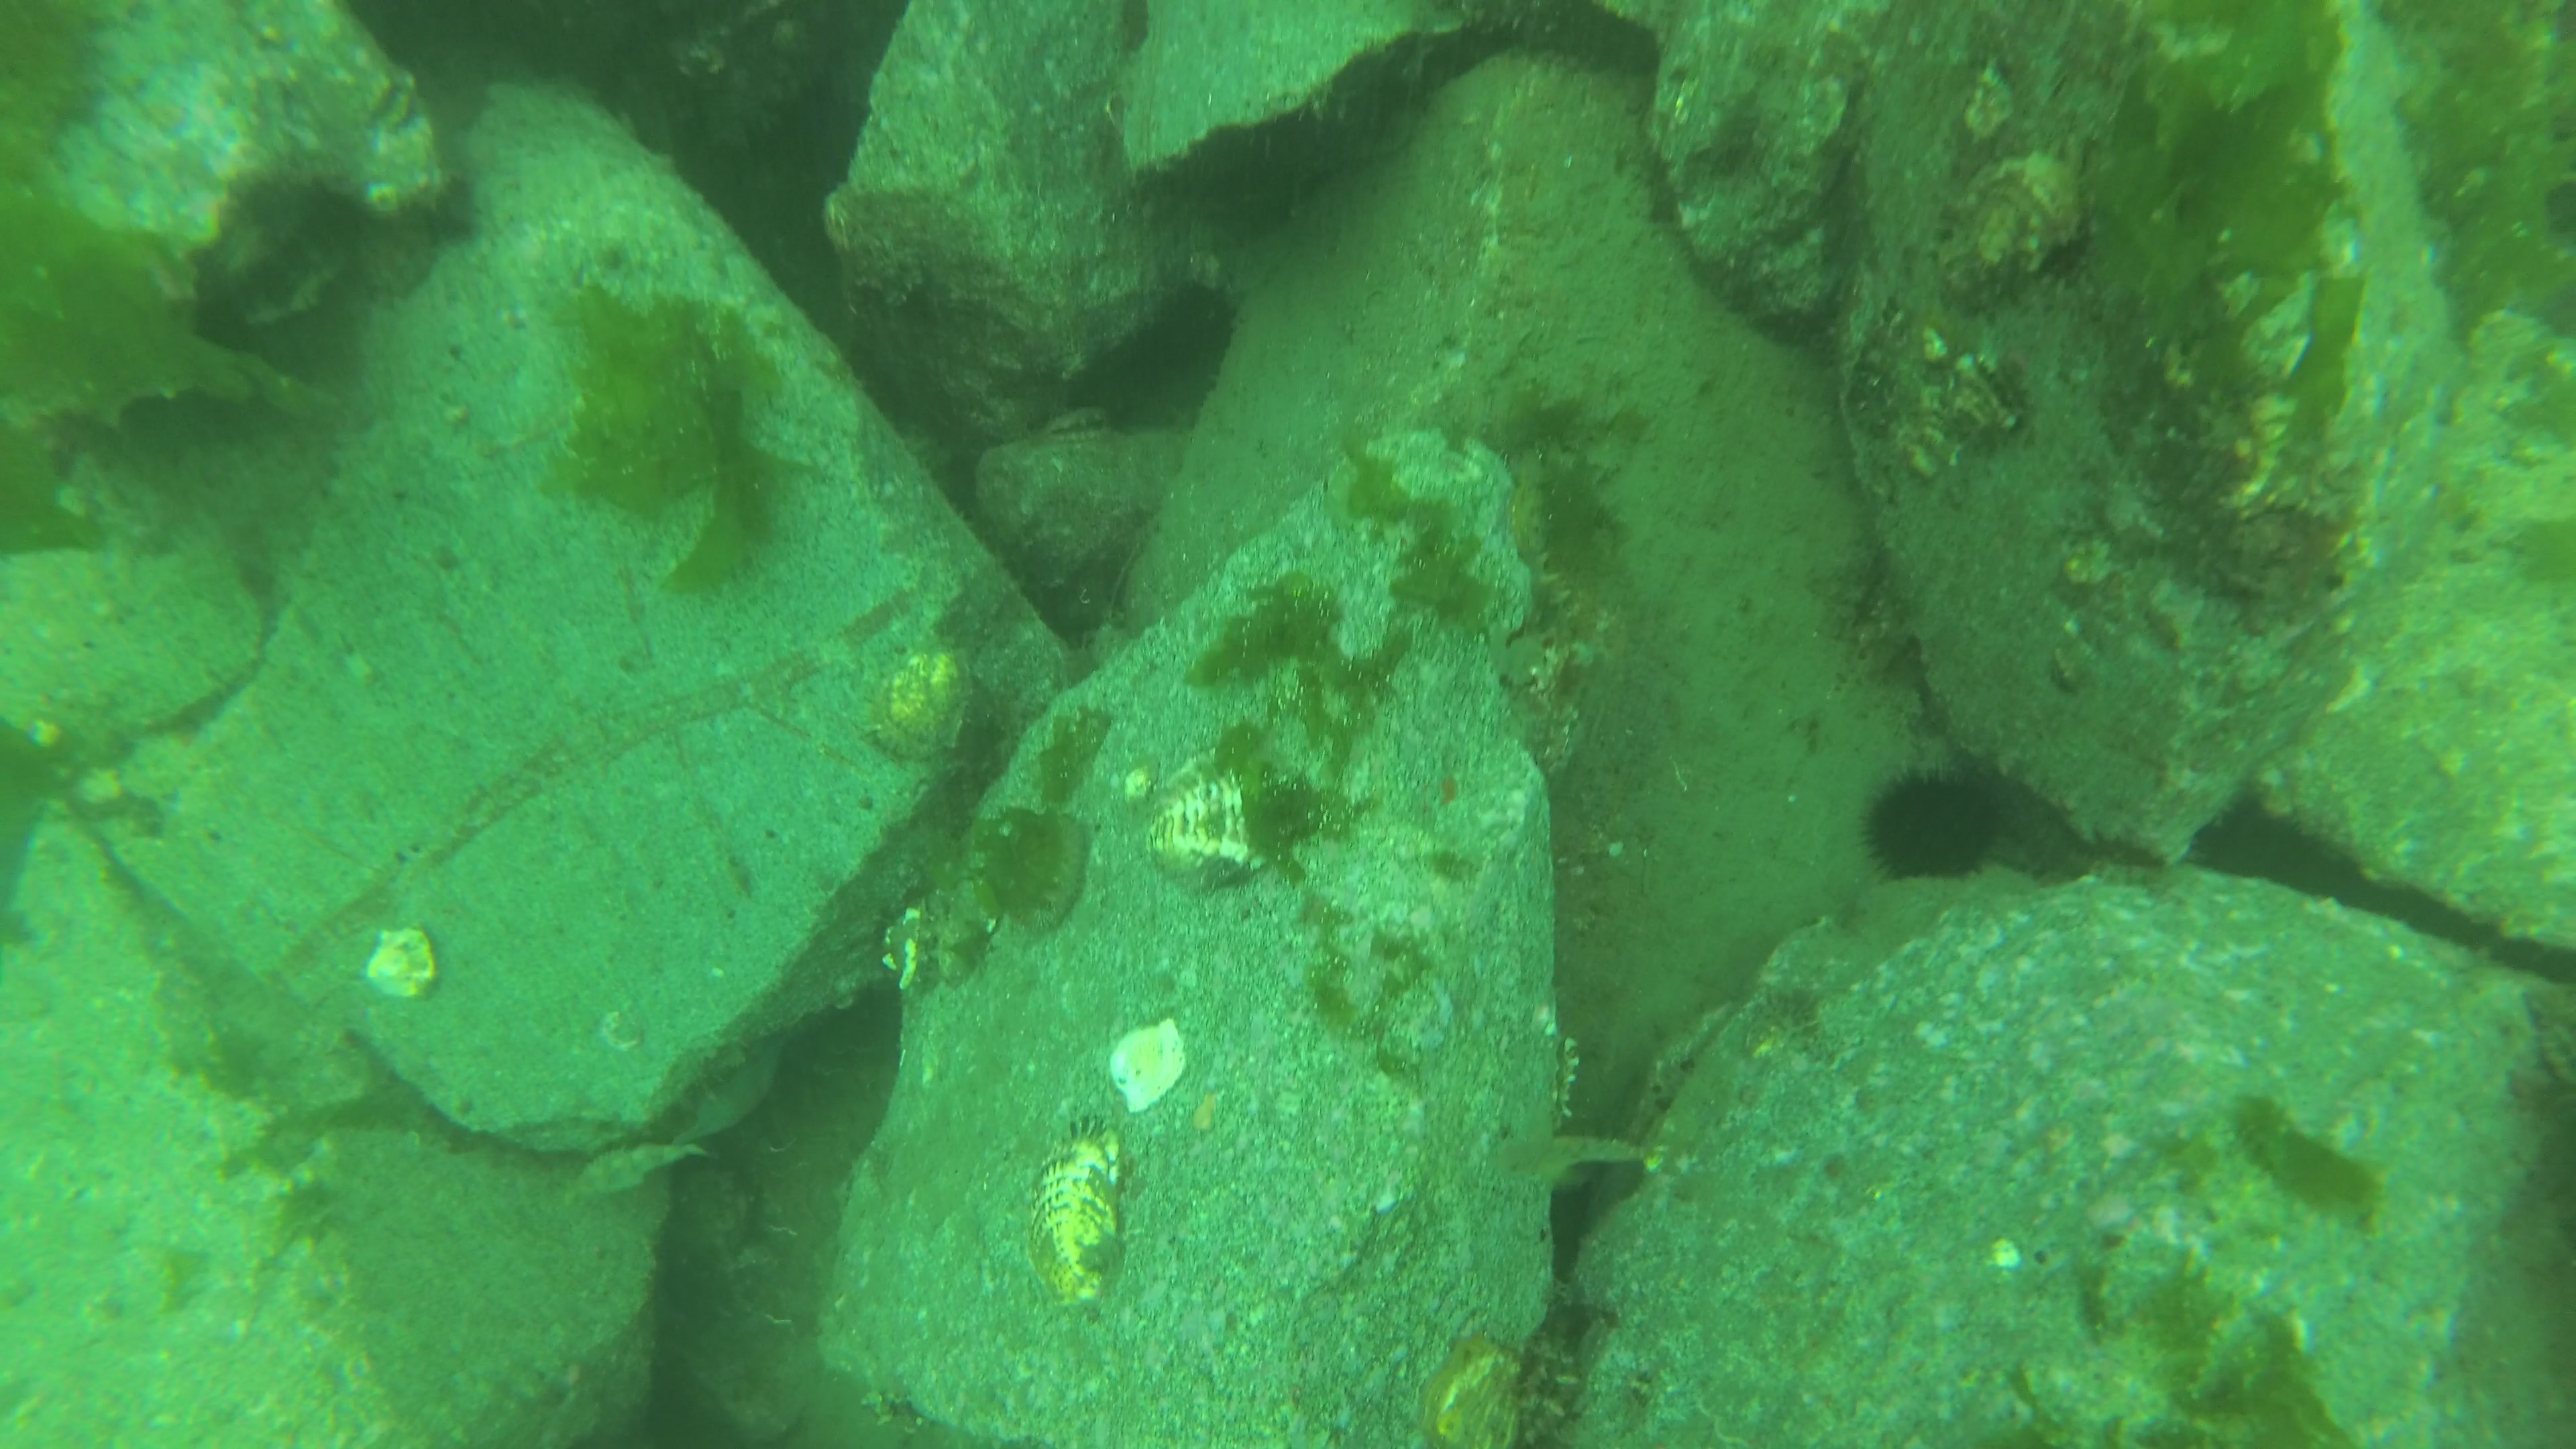echinus: (1854, 755, 2013, 886), (2187, 786, 2342, 897), (754, 76, 879, 214), (1118, 272, 1235, 400), (2068, 819, 2167, 876)
holothurian: (1522, 547, 1580, 649)
starfish: (669, 1051, 786, 1146)
